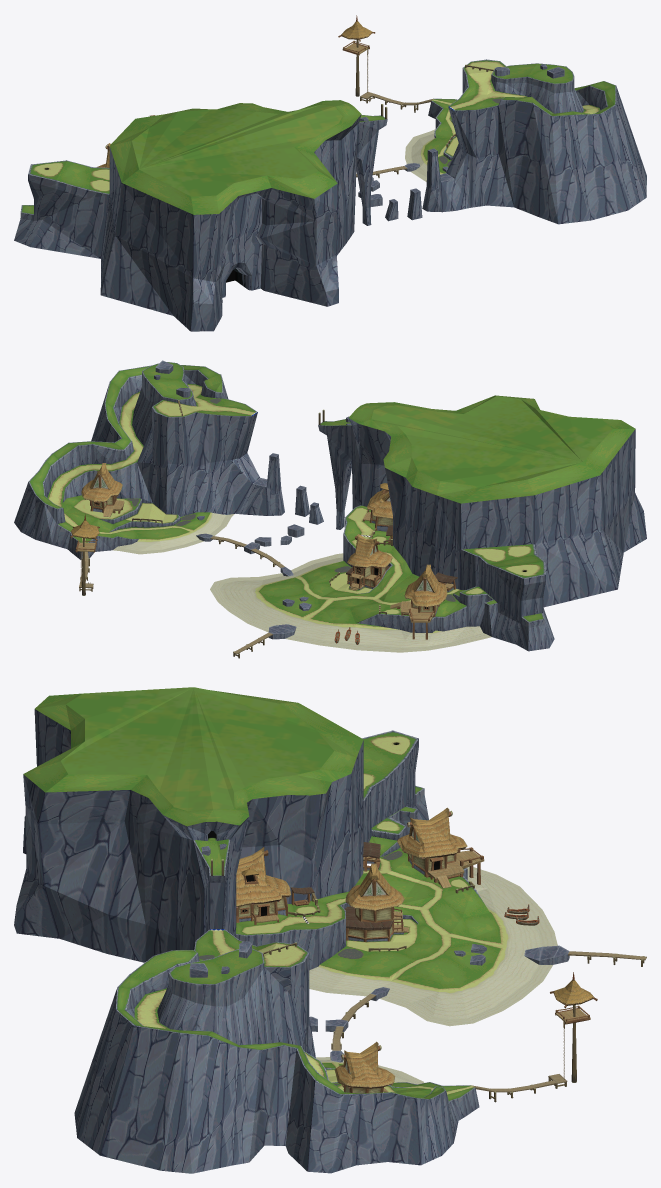
3 views of the same model, one above another, from view 1: azimuth 30°, elevation 25°; view 2: azimuth 150°, elevation 25°; view 3: azimuth 270°, elevation 25° (orthographic). The views are drawn at different scales.
Parts seen in each view (by area): view 1: SalvamentoAutom_tico_CT_1-COM-n5b5-87856-m6, SalvamentoAutom_tico_CT_1-COM-n6b6-87857-m7, SalvamentoAutom_tico_CT_1-COM-n6b6-87857-Material4, SalvamentoAutom_tico_CT_1-COM-n4b4-87855-m5, SalvamentoAutom_tico_CT_1-COM-n3b2-87859-m4, SalvamentoAutom_tico_CT_1-COM-n1b1-87860-m2; view 2: SalvamentoAutom_tico_CT_1-COM-n5b5-87856-m6, SalvamentoAutom_tico_CT_1-COM-n6b6-87857-m7, SalvamentoAutom_tico_CT_1-COM-n4b4-87855-m5, SalvamentoAutom_tico_CT_1-COM-n6b6-87857-Material4, SalvamentoAutom_tico_CT_1-COM-n1b1-87860-m2, SalvamentoAutom_tico_CT_1-COM-n3b2-87859-m4, SalvamentoAutom_tico_CT_1-COM-n2b3-87854-m3, SalvamentoAutom_tico_CT_1-COM-n7b7-87858-m8; view 3: SalvamentoAutom_tico_CT_1-COM-n5b5-87856-m6, SalvamentoAutom_tico_CT_1-COM-n6b6-87857-m7, SalvamentoAutom_tico_CT_1-COM-n6b6-87857-Material4, SalvamentoAutom_tico_CT_1-COM-n4b4-87855-m5, SalvamentoAutom_tico_CT_1-COM-n1b1-87860-m2, SalvamentoAutom_tico_CT_1-COM-n3b2-87859-m4, SalvamentoAutom_tico_CT_1-COM-n2b3-87854-m3.
Boxes of the visible parts, x1,y1,x2,y2 form: SalvamentoAutom_tico_CT_1-COM-n5b5-87856-m6: (14, 68, 646, 331); SalvamentoAutom_tico_CT_1-COM-n6b6-87857-m7: (22, 61, 614, 214); SalvamentoAutom_tico_CT_1-COM-n6b6-87857-Material4: (132, 104, 342, 196); SalvamentoAutom_tico_CT_1-COM-n4b4-87855-m5: (14, 59, 616, 289); SalvamentoAutom_tico_CT_1-COM-n3b2-87859-m4: (150, 39, 494, 177); SalvamentoAutom_tico_CT_1-COM-n1b1-87860-m2: (97, 15, 372, 167); SalvamentoAutom_tico_CT_1-COM-n5b5-87856-m6: (14, 378, 646, 650); SalvamentoAutom_tico_CT_1-COM-n6b6-87857-m7: (30, 362, 635, 652); SalvamentoAutom_tico_CT_1-COM-n4b4-87855-m5: (28, 360, 549, 651); SalvamentoAutom_tico_CT_1-COM-n6b6-87857-Material4: (371, 396, 612, 486); SalvamentoAutom_tico_CT_1-COM-n1b1-87860-m2: (71, 463, 447, 609); SalvamentoAutom_tico_CT_1-COM-n3b2-87859-m4: (77, 400, 457, 658); SalvamentoAutom_tico_CT_1-COM-n2b3-87854-m3: (70, 473, 455, 644); SalvamentoAutom_tico_CT_1-COM-n7b7-87858-m8: (124, 398, 458, 602); SalvamentoAutom_tico_CT_1-COM-n5b5-87856-m6: (14, 709, 453, 1173); SalvamentoAutom_tico_CT_1-COM-n6b6-87857-m7: (23, 690, 557, 1100); SalvamentoAutom_tico_CT_1-COM-n6b6-87857-Material4: (61, 687, 333, 811); SalvamentoAutom_tico_CT_1-COM-n4b4-87855-m5: (115, 730, 569, 1142); SalvamentoAutom_tico_CT_1-COM-n1b1-87860-m2: (236, 807, 594, 1088); SalvamentoAutom_tico_CT_1-COM-n3b2-87859-m4: (211, 842, 646, 1102); SalvamentoAutom_tico_CT_1-COM-n2b3-87854-m3: (236, 810, 597, 1093).
Size of what is drawn, in the model's own units: 133100 by 29701 by 99410.
15 materials, 15 textured.
